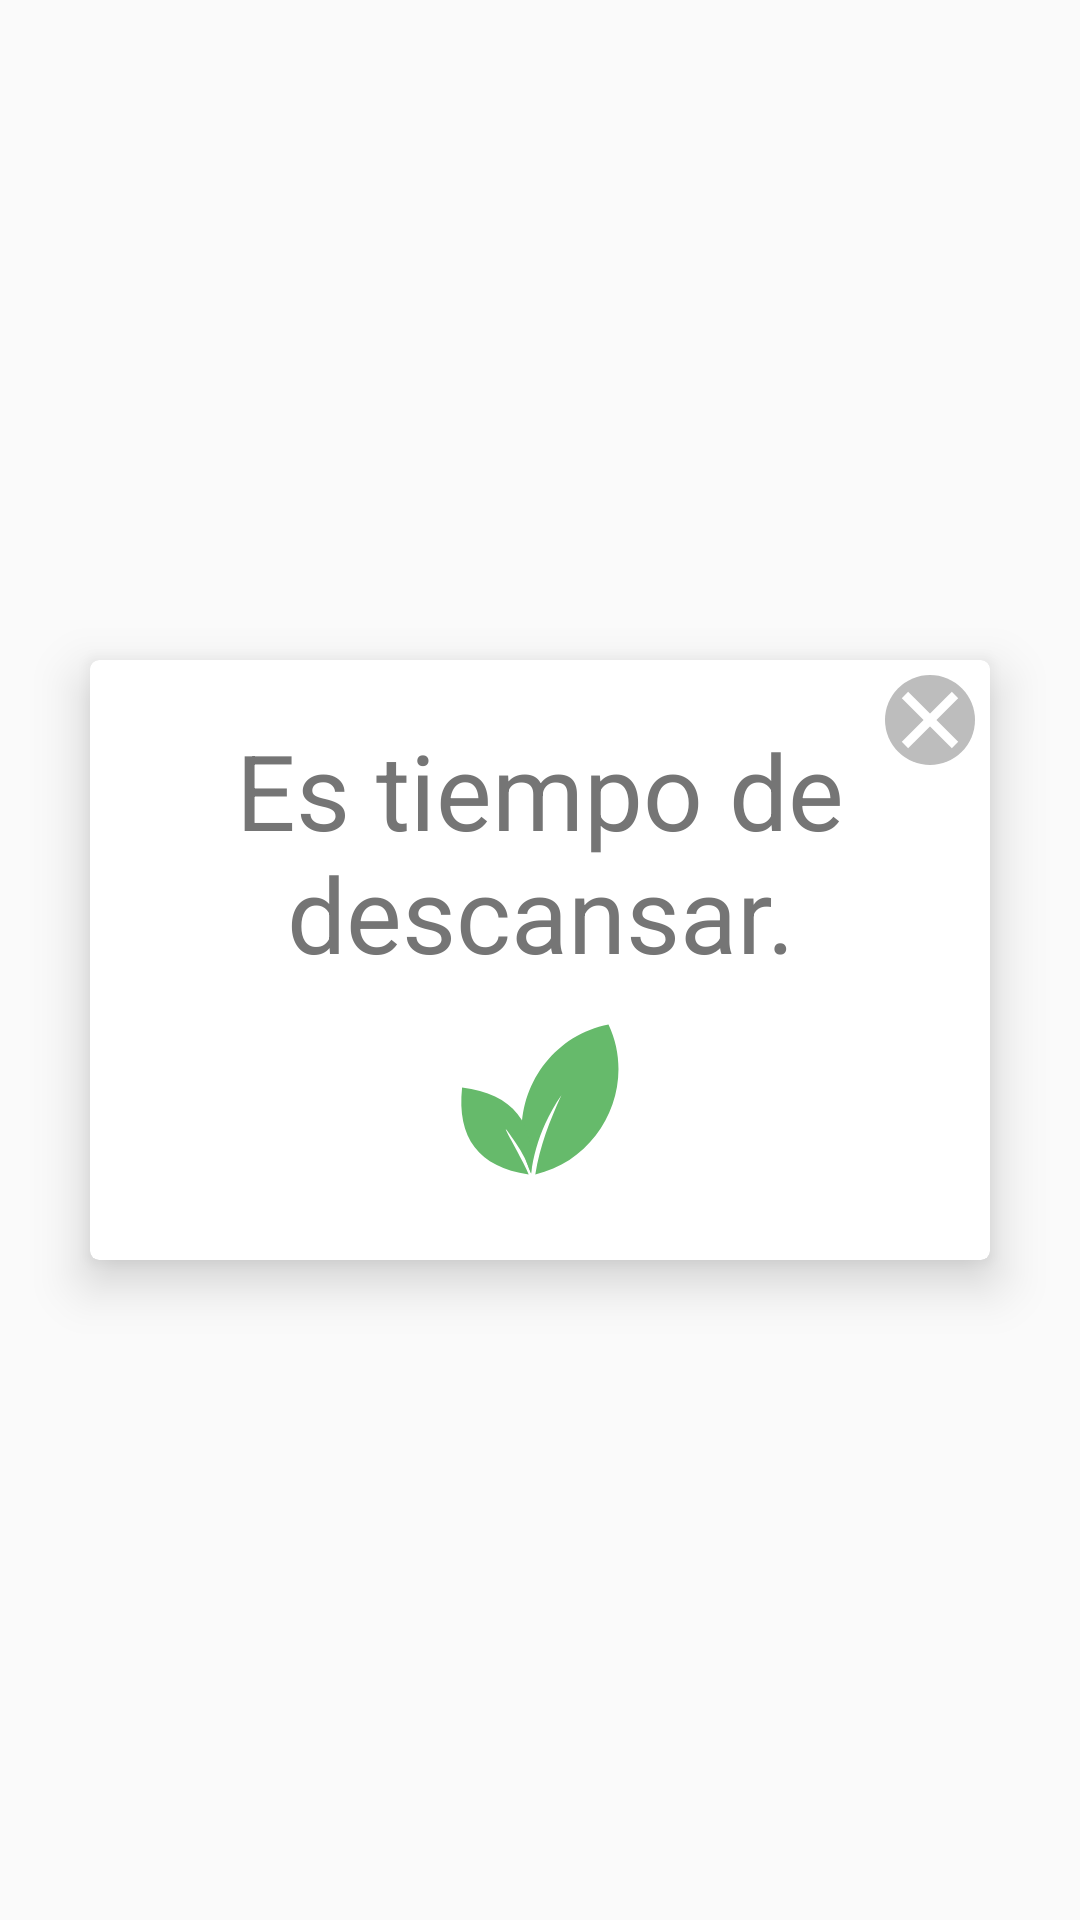

Named icons in this screenshot (1080w x 1920h) and their bounding boxes, (x1, y1, x2, y2):
leafs: (461, 1024, 619, 1175)
